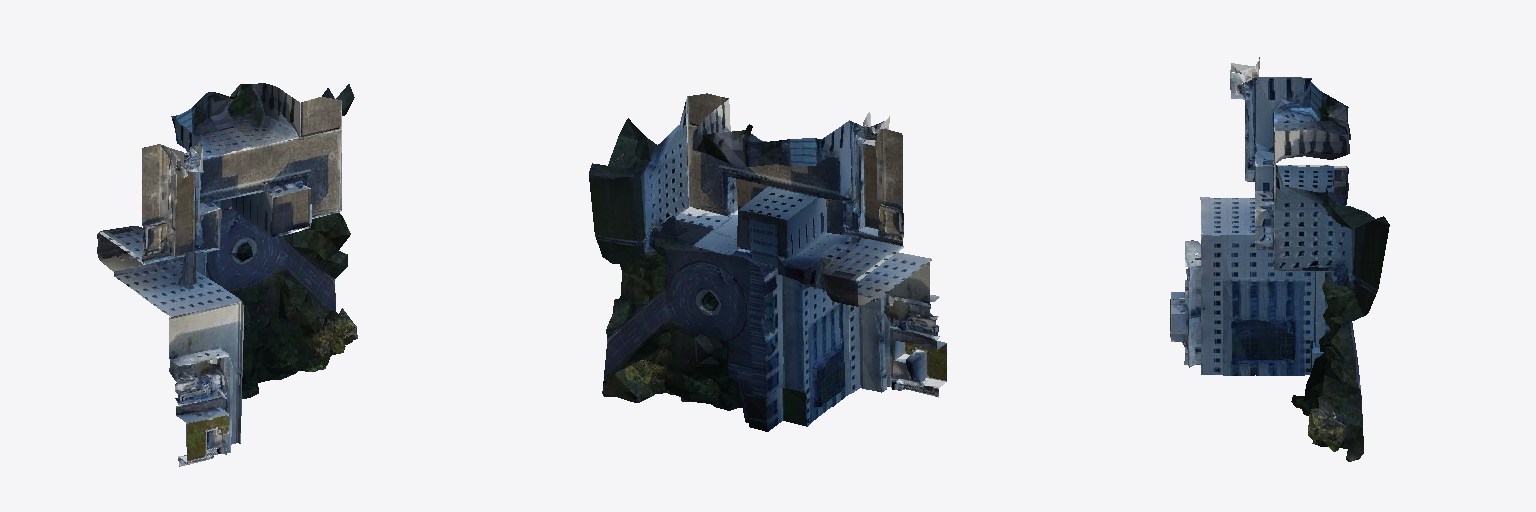
3 views of the same model, side by side, from view 1: azimuth 30°, elevation 25°; view 2: azimuth 150°, elevation 25°; view 3: azimuth 270°, elevation 25° (orthographic).
Parts seen in each view (by area): view 1: obj_0; view 2: obj_0; view 3: obj_0.
Boxes of the visible parts, <box> form: obj_0: <box>97,83,357,466</box>; obj_0: <box>589,93,946,431</box>; obj_0: <box>1170,57,1389,461</box>.
Bounding box in the file's own units: 80.32 × 90.12 × 61.48.
Materials: 1 (1 with a texture image).